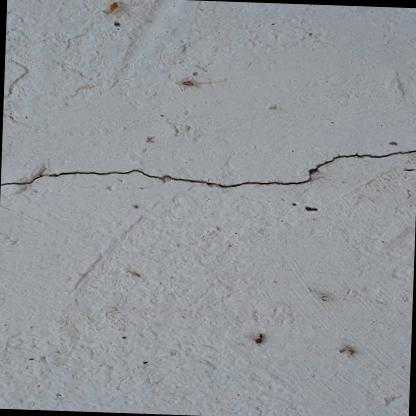crack: (1, 149, 416, 187)
